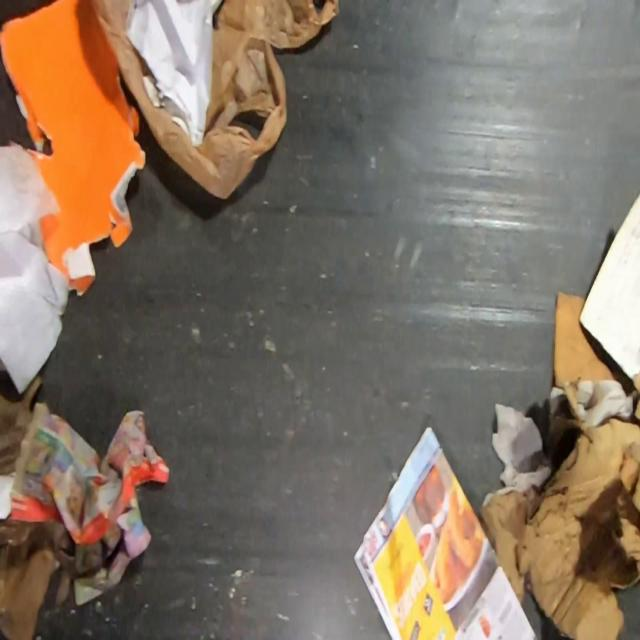cardboard: (0, 0, 146, 300), (475, 410, 640, 640), (552, 287, 630, 412)
soft_plastic: (94, 0, 342, 199)
